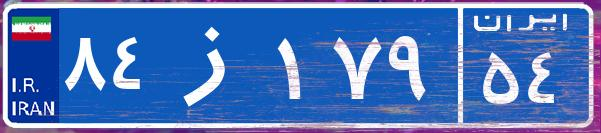1: (273, 28, 330, 110)
4: (110, 28, 158, 105), (525, 38, 570, 115)
5: (475, 38, 525, 113)
7: (330, 28, 385, 110)
8: (57, 26, 110, 107)
9: (385, 28, 445, 110)
ز: (158, 15, 273, 115)
